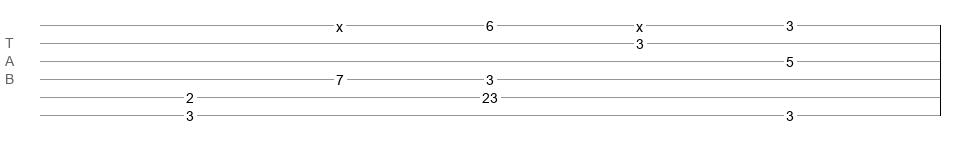2: (186, 90, 194, 100)
23: (482, 90, 498, 100)
3: (186, 108, 194, 118), (486, 72, 494, 82), (636, 36, 644, 46), (786, 108, 794, 118), (786, 18, 794, 28)
5: (786, 54, 794, 64)
6: (486, 18, 494, 28)
7: (336, 72, 344, 82)
x: (336, 19, 343, 27), (636, 19, 643, 27)
